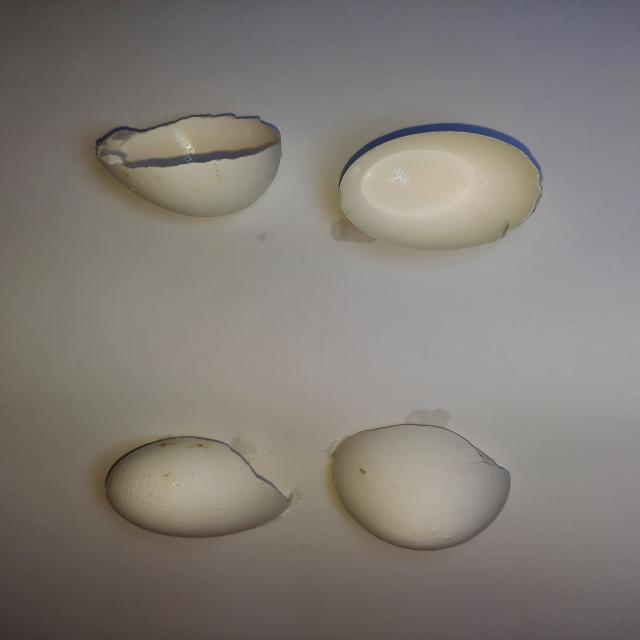egg shell: (334, 126, 548, 252), (324, 420, 518, 556), (76, 109, 290, 222), (97, 432, 300, 540)
